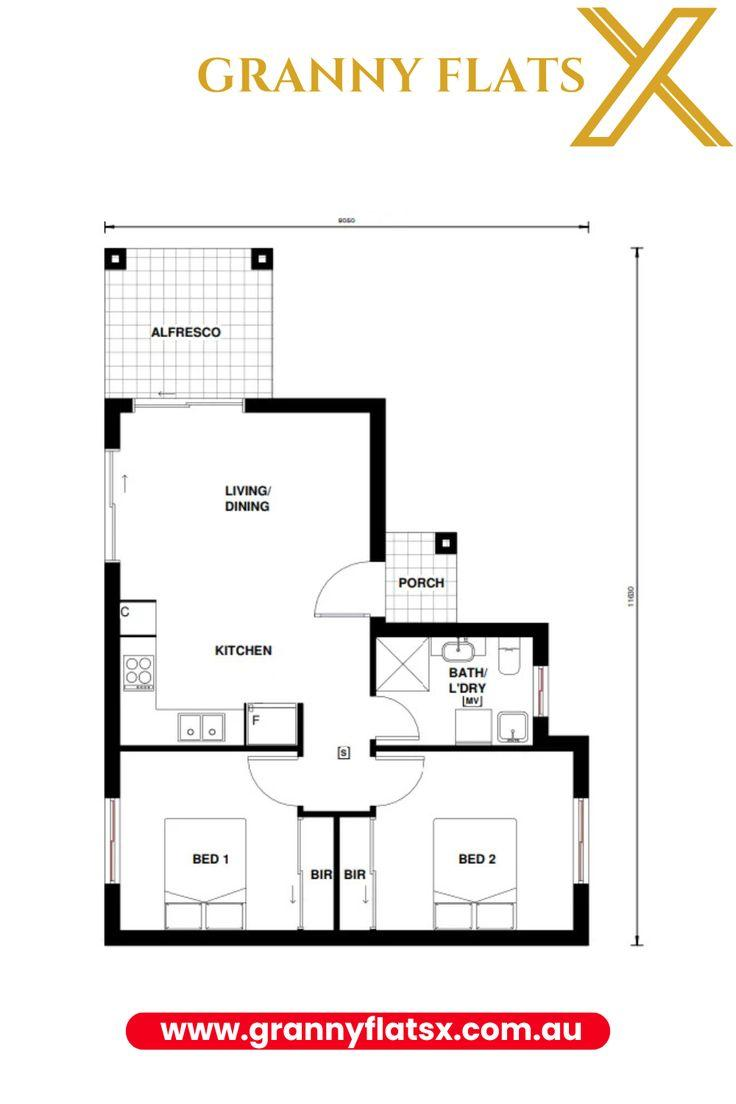wall: (106, 399, 121, 947), (105, 930, 590, 946), (105, 398, 385, 413), (370, 398, 386, 636), (104, 745, 588, 752), (573, 736, 588, 945), (370, 622, 549, 637), (533, 623, 549, 752), (370, 621, 376, 817), (333, 811, 340, 946), (533, 736, 589, 751), (297, 702, 304, 817), (298, 810, 376, 818)
